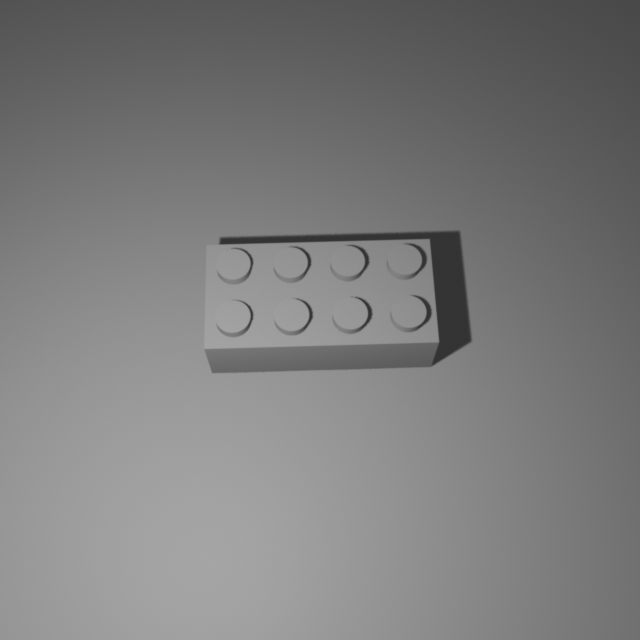lego_2x4: (203, 234, 441, 373)
